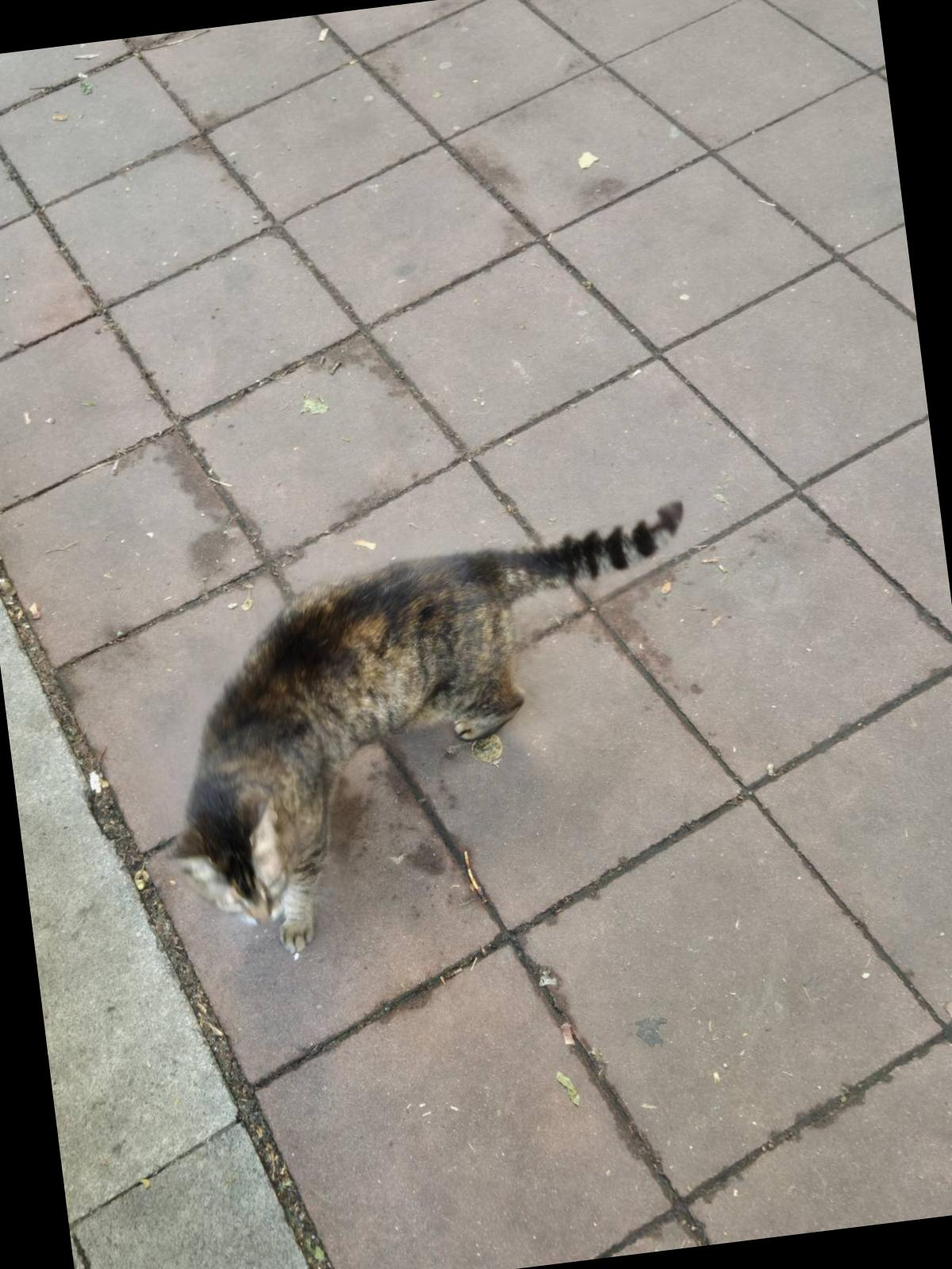macka: (131, 497, 734, 966)
